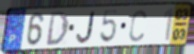1: (163, 7, 175, 42)
5: (98, 9, 120, 44)
6: (26, 11, 46, 47)
C: (128, 8, 148, 43)
D: (45, 10, 70, 47)
J: (75, 11, 97, 45)
